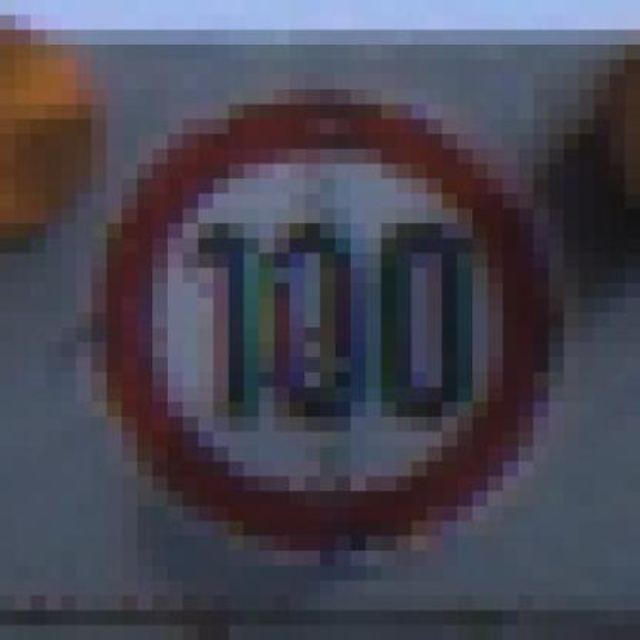Tốc độ tối đa cho phép 100km/h: (113, 99, 550, 555)
